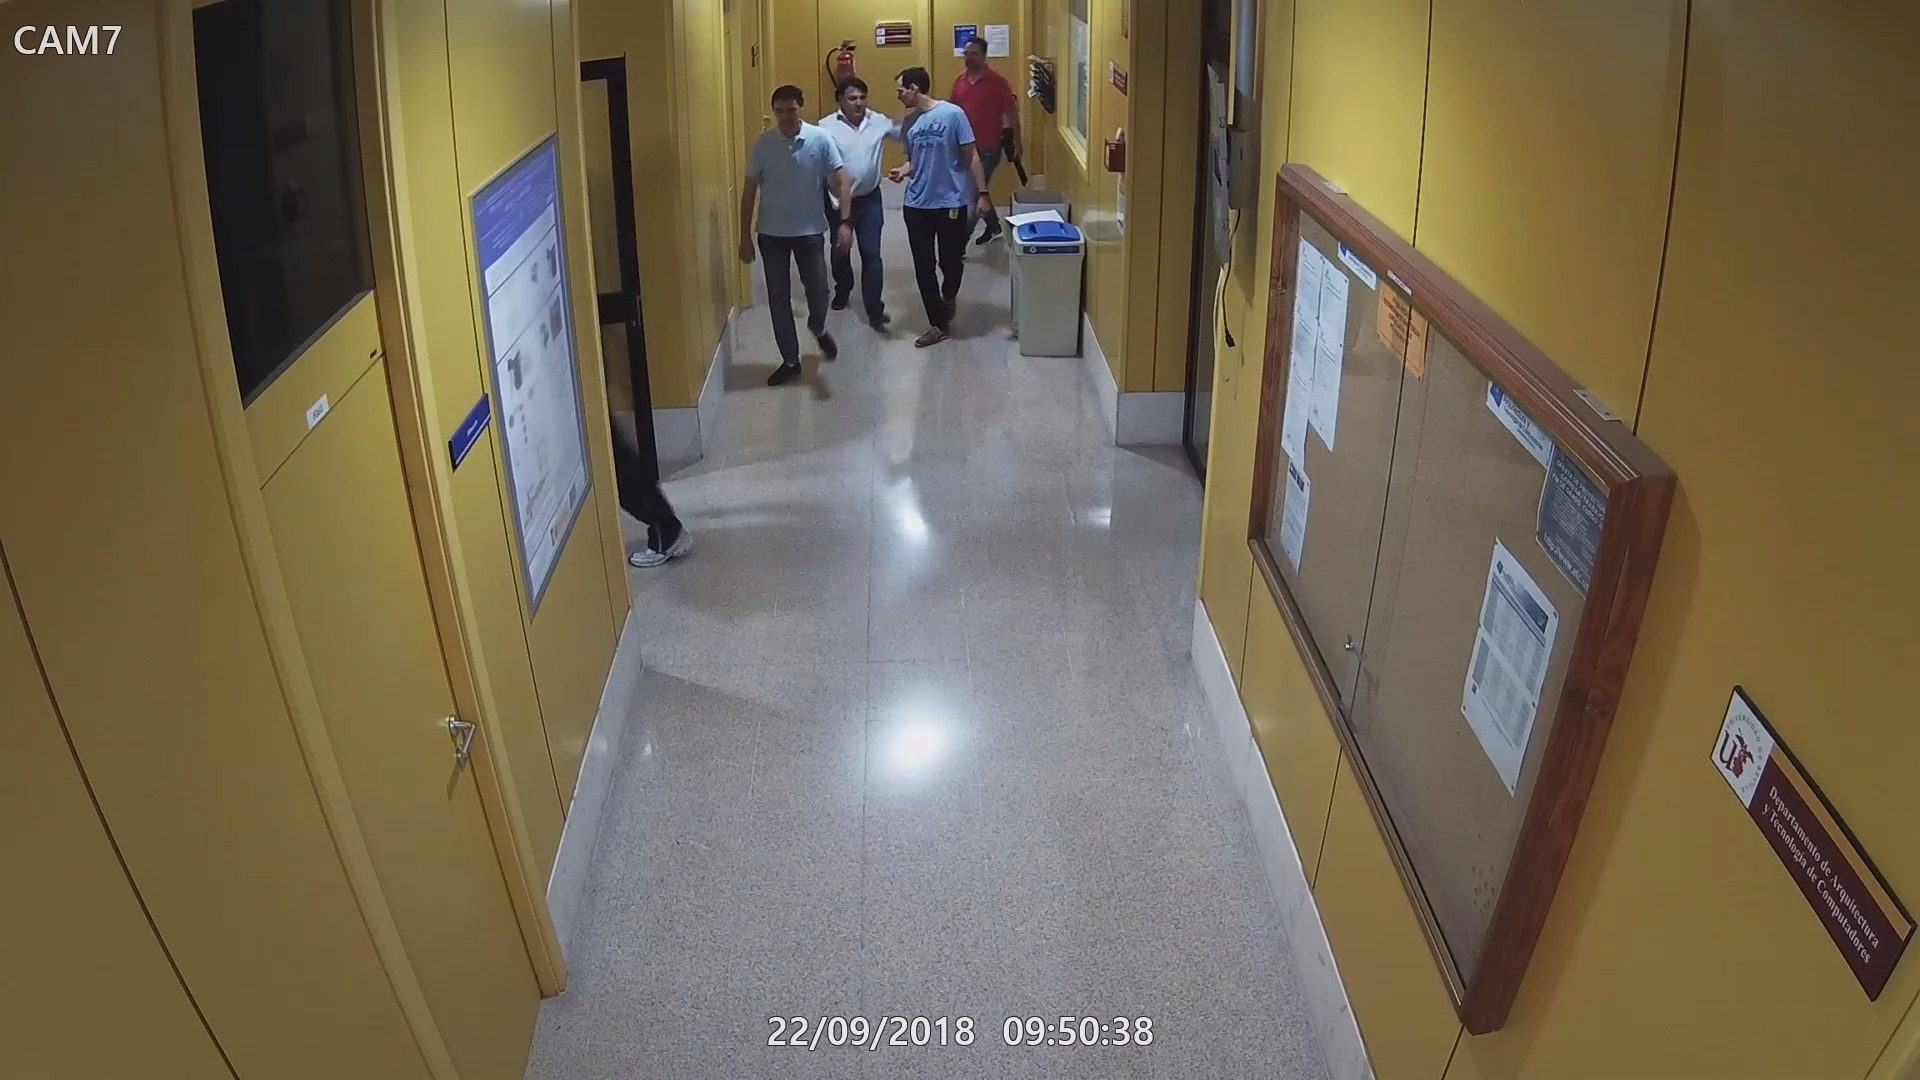Short_rifle: (996, 123, 1030, 185)
